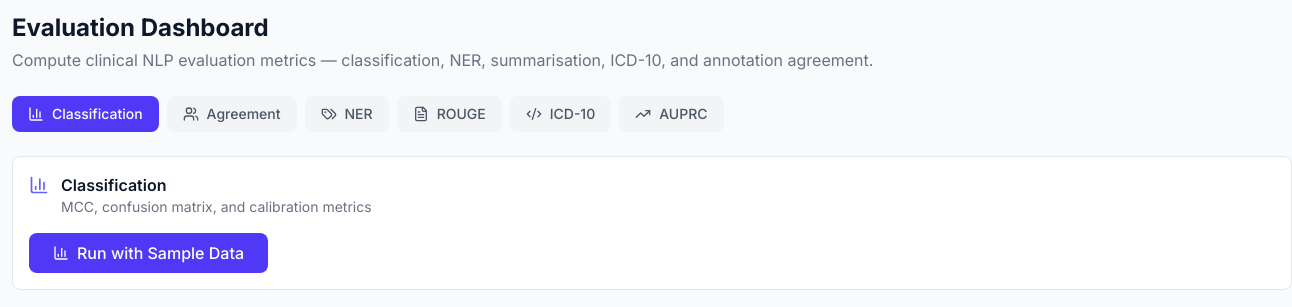
EvaluationDashboard › tab navigation › switches to NER tab
Click the button "NER" at (347, 114), box [304,96,389,132]
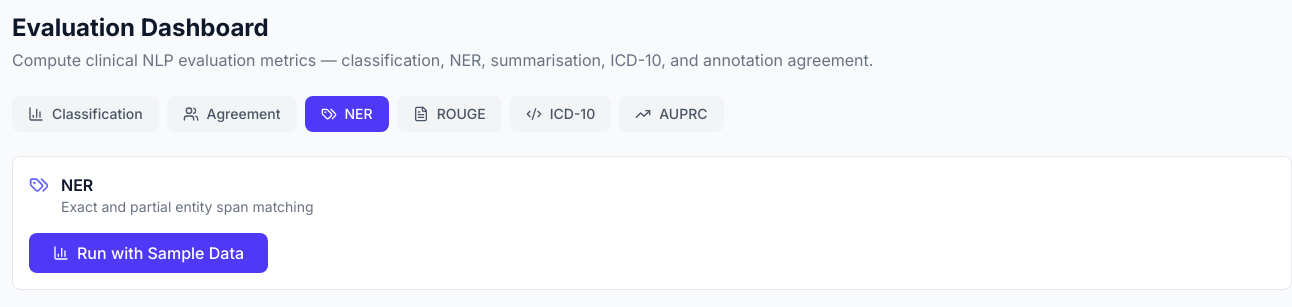
Now the text "Exact and partial entity span matching" is shown, box [61,197,314,217]
